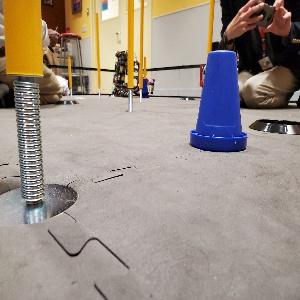Blue_1: (190, 49, 247, 152)
Blue_2: (141, 79, 149, 98)
